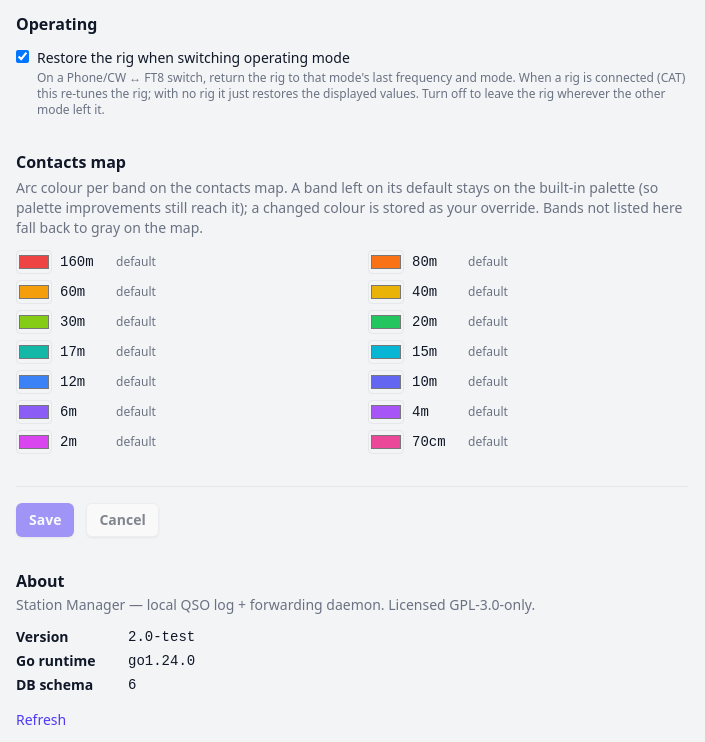
Test: GeneralSection › toggling the knob marks it dirty and enables Save
Check: the button "Save" is disabled, box [16, 503, 74, 537]
Click the checkbox.
click(22, 56)  # box [16, 50, 29, 63]
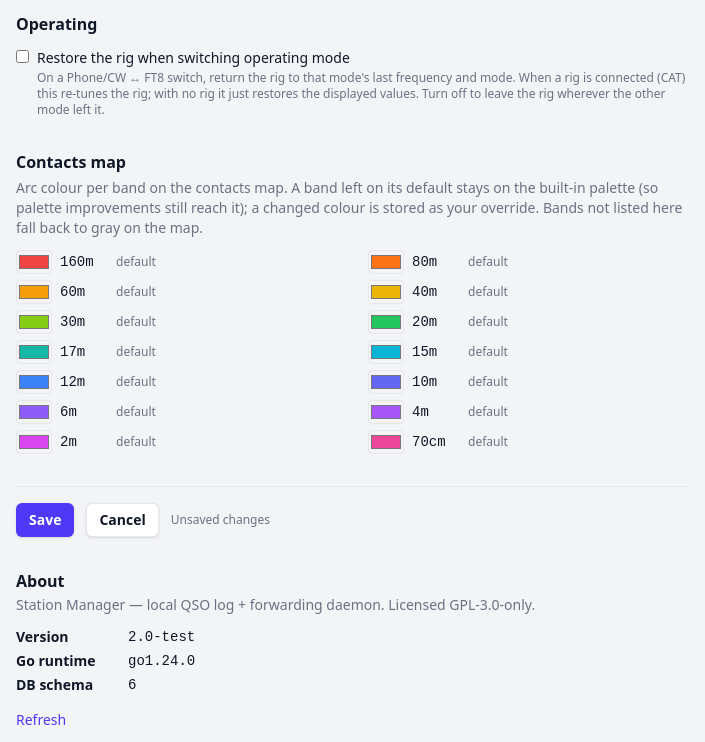
Check: the button "Save" is enabled, box [16, 503, 74, 537]
